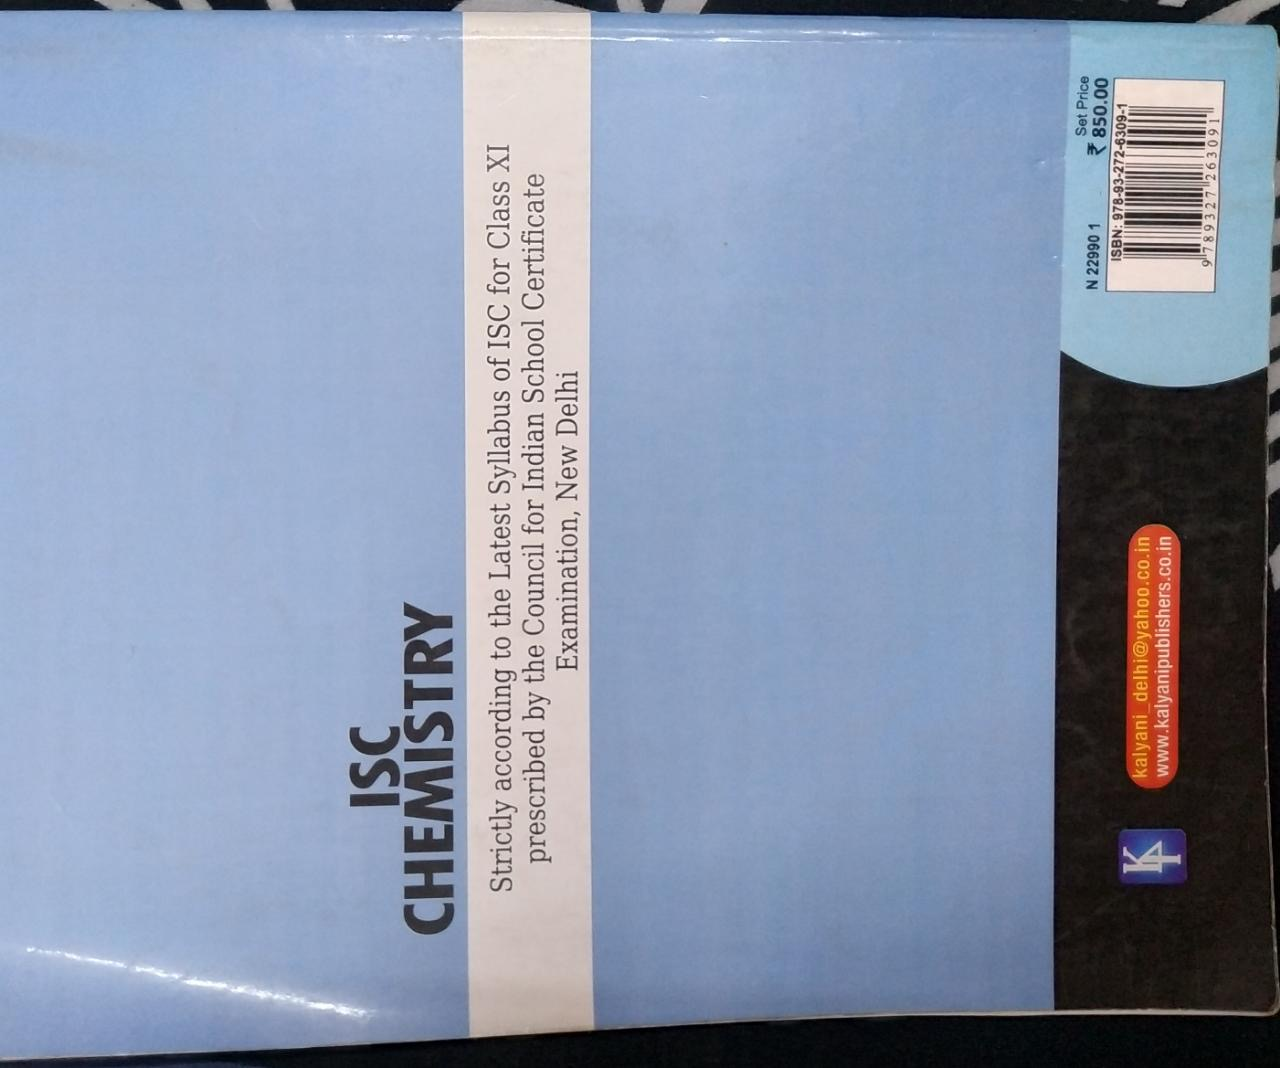barcode: (1112, 94, 1222, 283)
